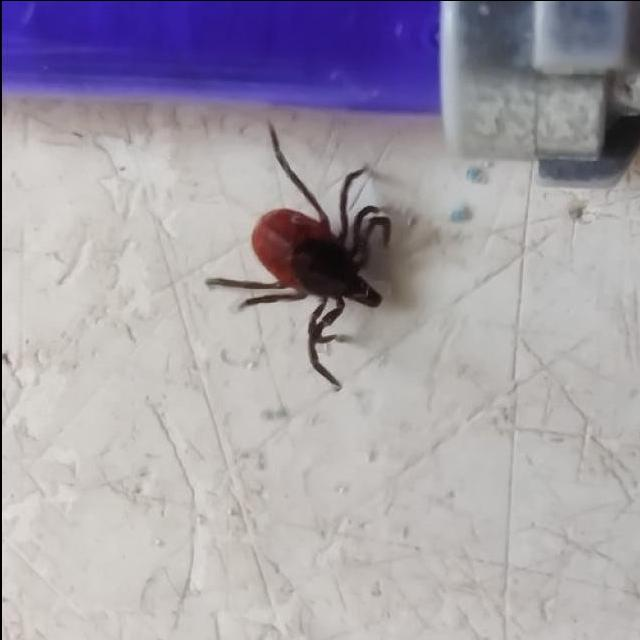Ixodes Ricinus-F: (204, 120, 389, 389)
